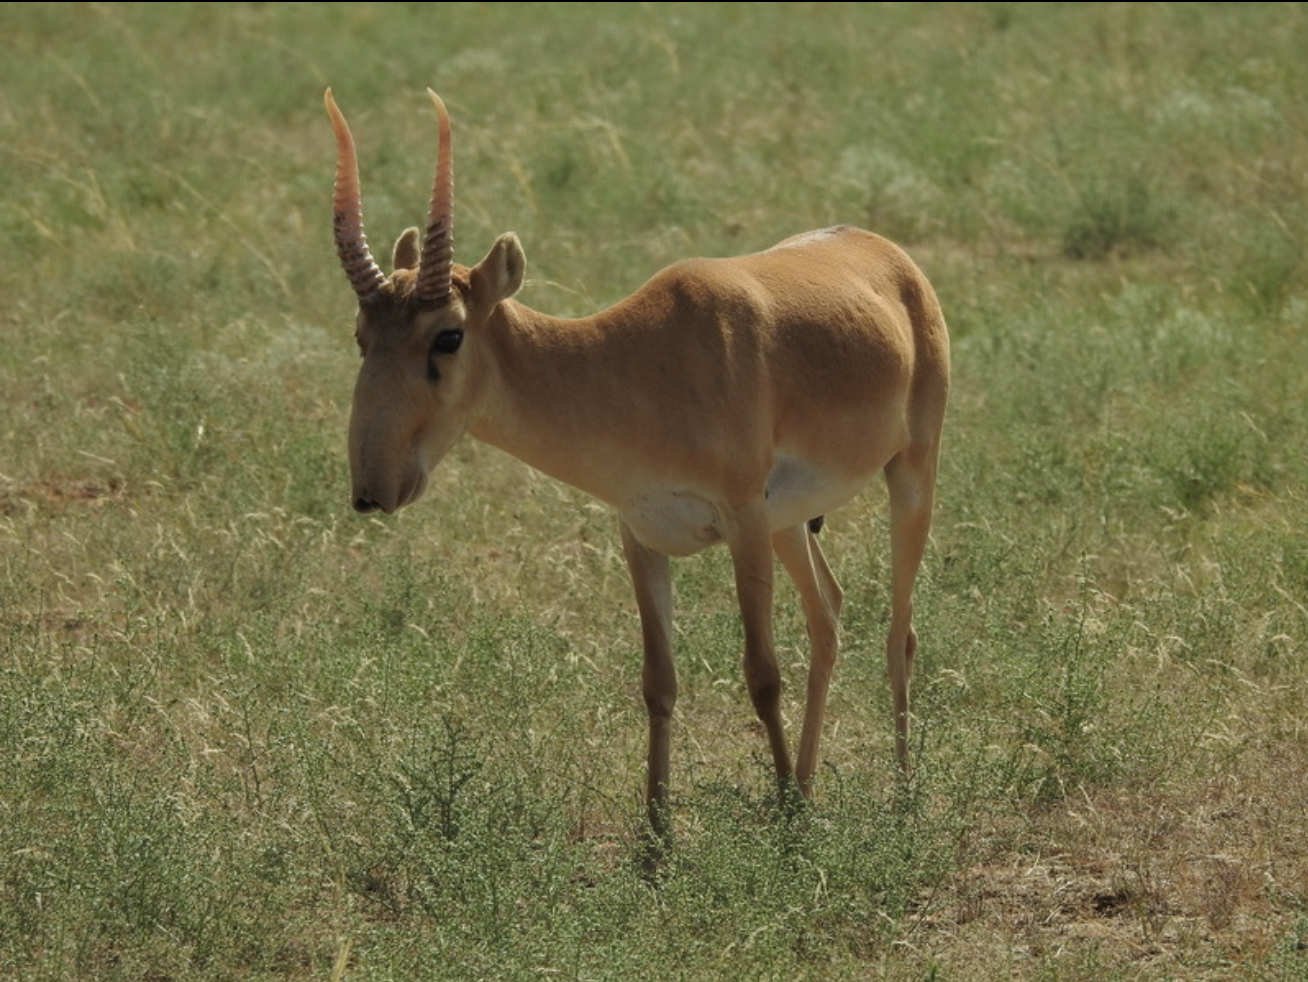saiga: (288, 79, 964, 871)
